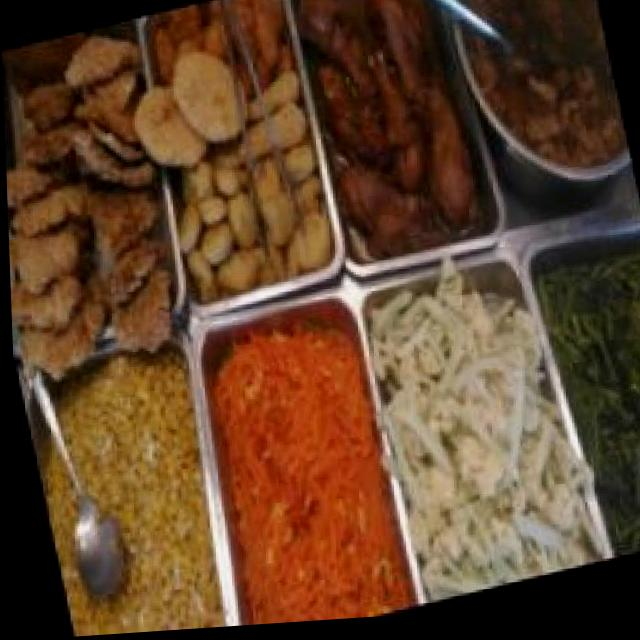carrot_eggs: (210, 322, 404, 630)
chicken_nuggets: (172, 150, 334, 306)
fried_chicken: (1, 26, 183, 372)
triangle_hash_brown: (148, 0, 294, 105)
water_spinach: (540, 256, 640, 562)
